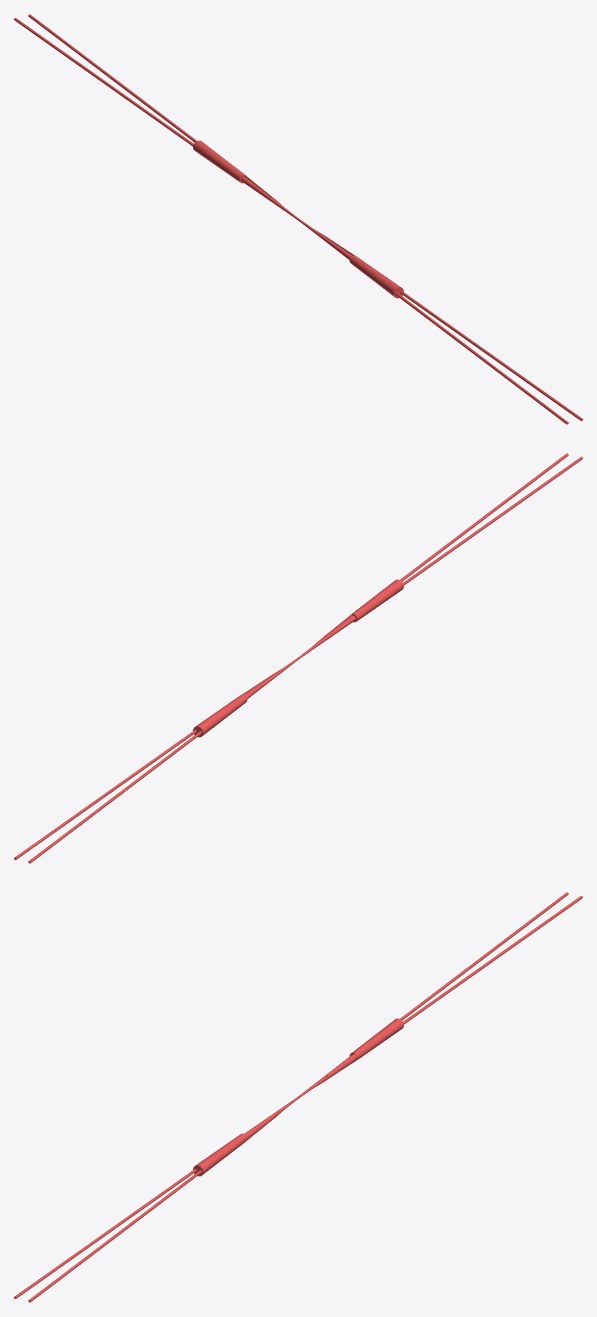
Rendered from CLD_o2_v07.gltf.
3 views of the same model, one above another, from view 1: azimuth 30°, elevation 25°; view 2: azimuth 150°, elevation 25°; view 3: azimuth 330°, elevation 25° (orthographic).
Parts seen in each view (by area): view 1: tube_DownStreamBeamPipe_1_wall_0_0, tube_UpStreamBeamPipe_5_wall2_0, tube_UpStreamBeamPipe_5_wall_0, tube_DownStreamBeamPipe_1_wall_1_0, tube_TaShield_0_0, tube_TaShield_1_1; view 2: tube_DownStreamBeamPipe_1_wall_1_0, tube_UpStreamBeamPipe_5_wall_0, tube_UpStreamBeamPipe_5_wall2_0, tube_DownStreamBeamPipe_1_wall_0_0, tube_TaShield_1_1, tube_TaShield_0_0; view 3: tube_UpStreamBeamPipe_5_wall_0, tube_DownStreamBeamPipe_1_wall_1_0, tube_DownStreamBeamPipe_1_wall_0_0, tube_UpStreamBeamPipe_5_wall2_0, tube_TaShield_0_0, tube_TaShield_1_1.
Boxes of the visible parts, left/top/right/bottom form: tube_DownStreamBeamPipe_1_wall_0_0: left=400, top=291, right=582, bottom=420; tube_UpStreamBeamPipe_5_wall2_0: left=14, top=18, right=193, bottom=146; tube_UpStreamBeamPipe_5_wall_0: left=395, top=292, right=568, bottom=424; tube_DownStreamBeamPipe_1_wall_1_0: left=28, top=14, right=196, bottom=142; tube_TaShield_0_0: left=349, top=255, right=403, bottom=298; tube_TaShield_1_1: left=193, top=140, right=245, bottom=183; tube_DownStreamBeamPipe_1_wall_1_0: left=14, top=730, right=196, bottom=859; tube_UpStreamBeamPipe_5_wall_0: left=403, top=457, right=582, bottom=585; tube_UpStreamBeamPipe_5_wall2_0: left=28, top=731, right=201, bottom=863; tube_DownStreamBeamPipe_1_wall_0_0: left=400, top=453, right=568, bottom=581; tube_TaShield_1_1: left=193, top=694, right=247, bottom=737; tube_TaShield_0_0: left=351, top=579, right=403, bottom=622; tube_UpStreamBeamPipe_5_wall_0: left=14, top=1169, right=196, bottom=1298; tube_DownStreamBeamPipe_1_wall_1_0: left=403, top=896, right=582, bottom=1024; tube_DownStreamBeamPipe_1_wall_0_0: left=28, top=1170, right=201, bottom=1302; tube_UpStreamBeamPipe_5_wall2_0: left=400, top=892, right=568, bottom=1020; tube_TaShield_0_0: left=193, top=1133, right=247, bottom=1176; tube_TaShield_1_1: left=349, top=1018, right=403, bottom=1060.
Bounding box in the file's own units: 21.2 × 12.9 × 1200.
